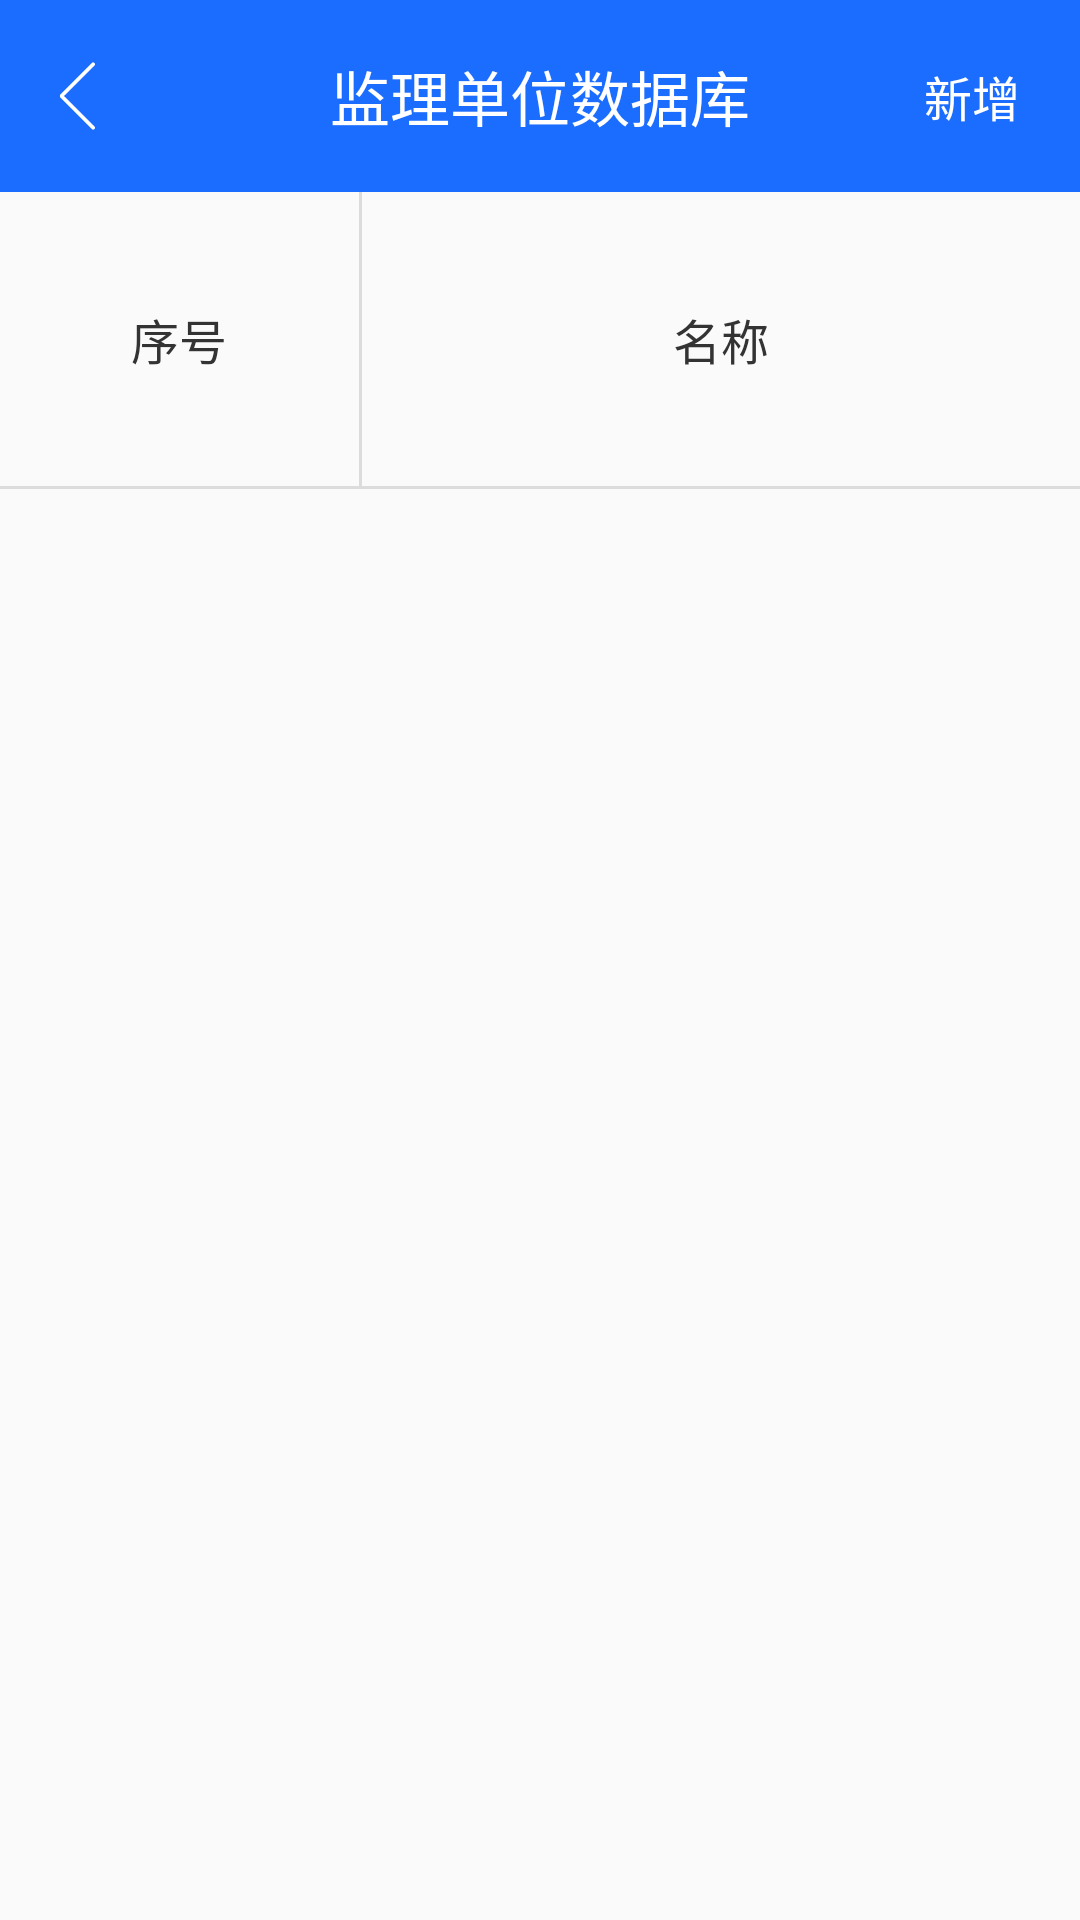

Icon click points for this 1080*1920 phone screenshot, format (x=x, y=y):
back: (x=77, y=96)
